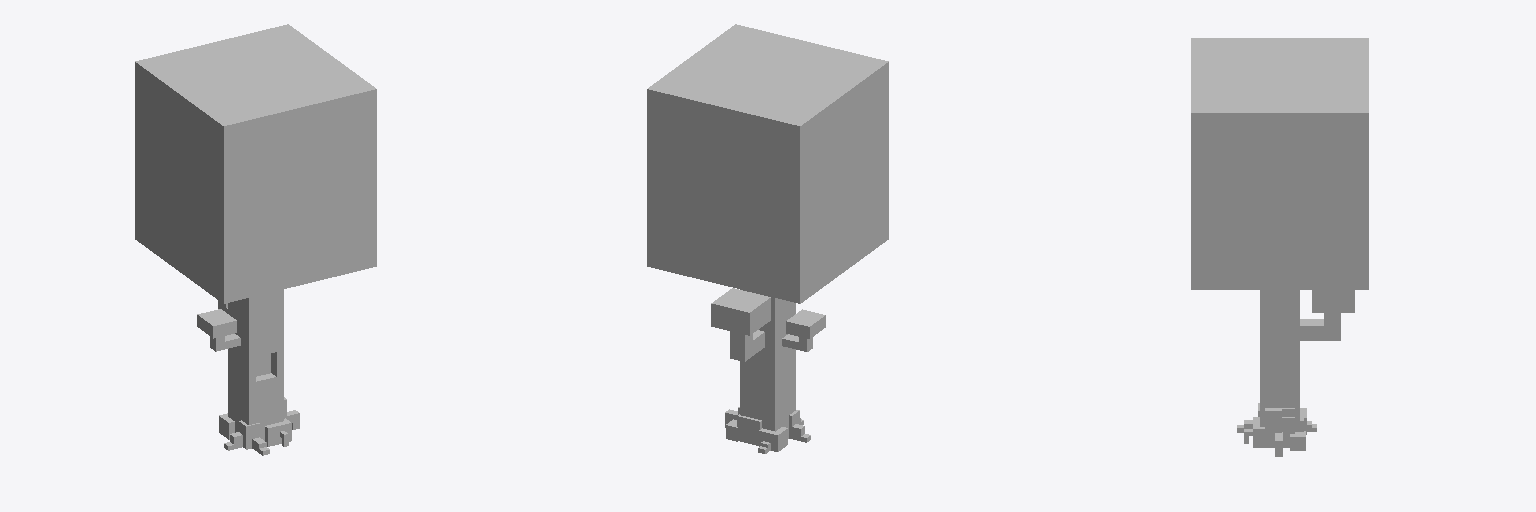
Rendered from Oak_tree (Stage 6).obj.
The picture shows the model from 3 angles: view 1: azimuth 30°, elevation 25°; view 2: azimuth 150°, elevation 25°; view 3: azimuth 270°, elevation 25°; orthographic projection.
Parts seen in each view (by area): view 1: object 1; view 2: object 1; view 3: object 1.
Part boxes in pixels (left/top/right/bottom): object 1: left=135, top=24, right=376, bottom=455; object 1: left=647, top=24, right=888, bottom=453; object 1: left=1191, top=38, right=1368, bottom=456.
Bounding box in the file's own units: 10.4 × 23.4 × 10.4.